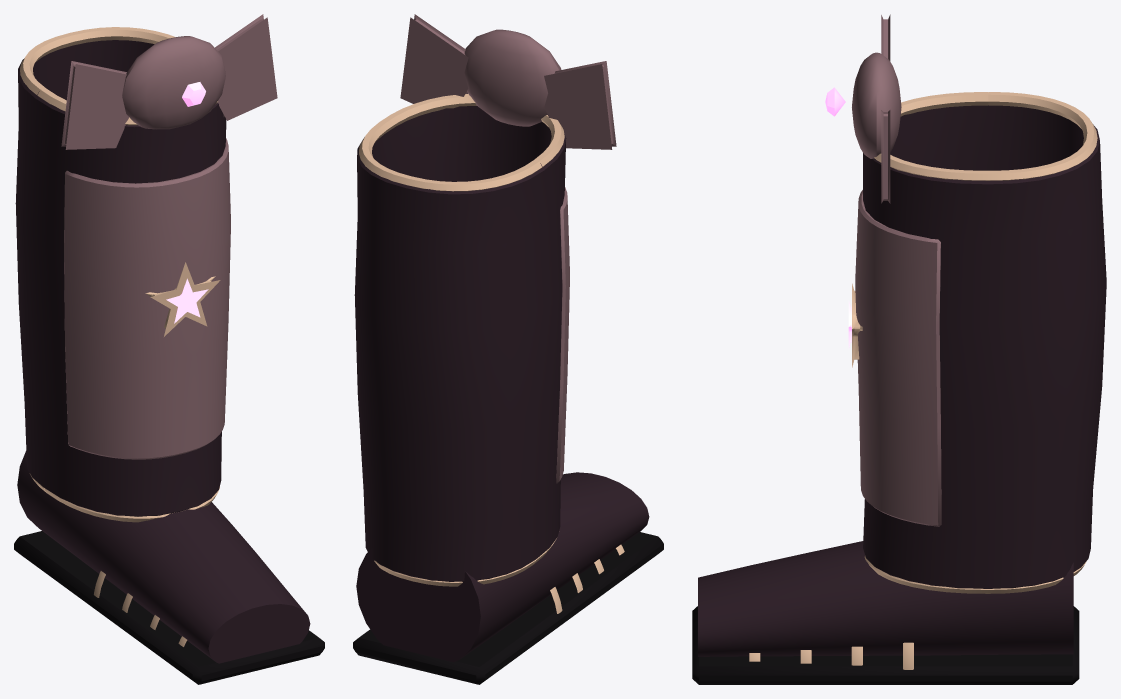
Rendered from asc_endless_volley_boots_R.glb.
3 views of the same model, side by side, from view 1: azimuth 30°, elevation 25°; view 2: azimuth 150°, elevation 25°; view 3: azimuth 270°, elevation 25° (orthographic). The views are drawn at different scales.
Visible parts, largest first — view 1: asc_endless_volley_boots, AT_foot_R; view 2: asc_endless_volley_boots, AT_foot_R; view 3: asc_endless_volley_boots, AT_foot_R.
Boxes of the visible parts, <box> form: asc_endless_volley_boots: <box>15,14,277,522</box>; AT_foot_R: <box>14,451,324,684</box>; asc_endless_volley_boots: <box>354,14,616,586</box>; AT_foot_R: <box>353,472,663,684</box>; asc_endless_volley_boots: <box>825,14,1106,593</box>; AT_foot_R: <box>692,541,1079,684</box>.
Bounding box in the file's own units: 0.2244 × 0.5768 × 0.3641.
